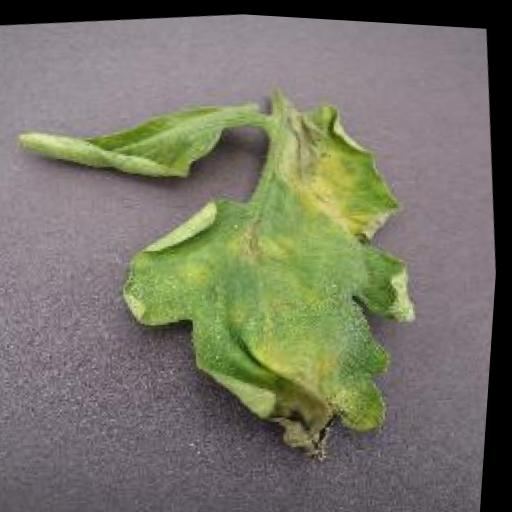Late Blight: (2, 65, 458, 497)
